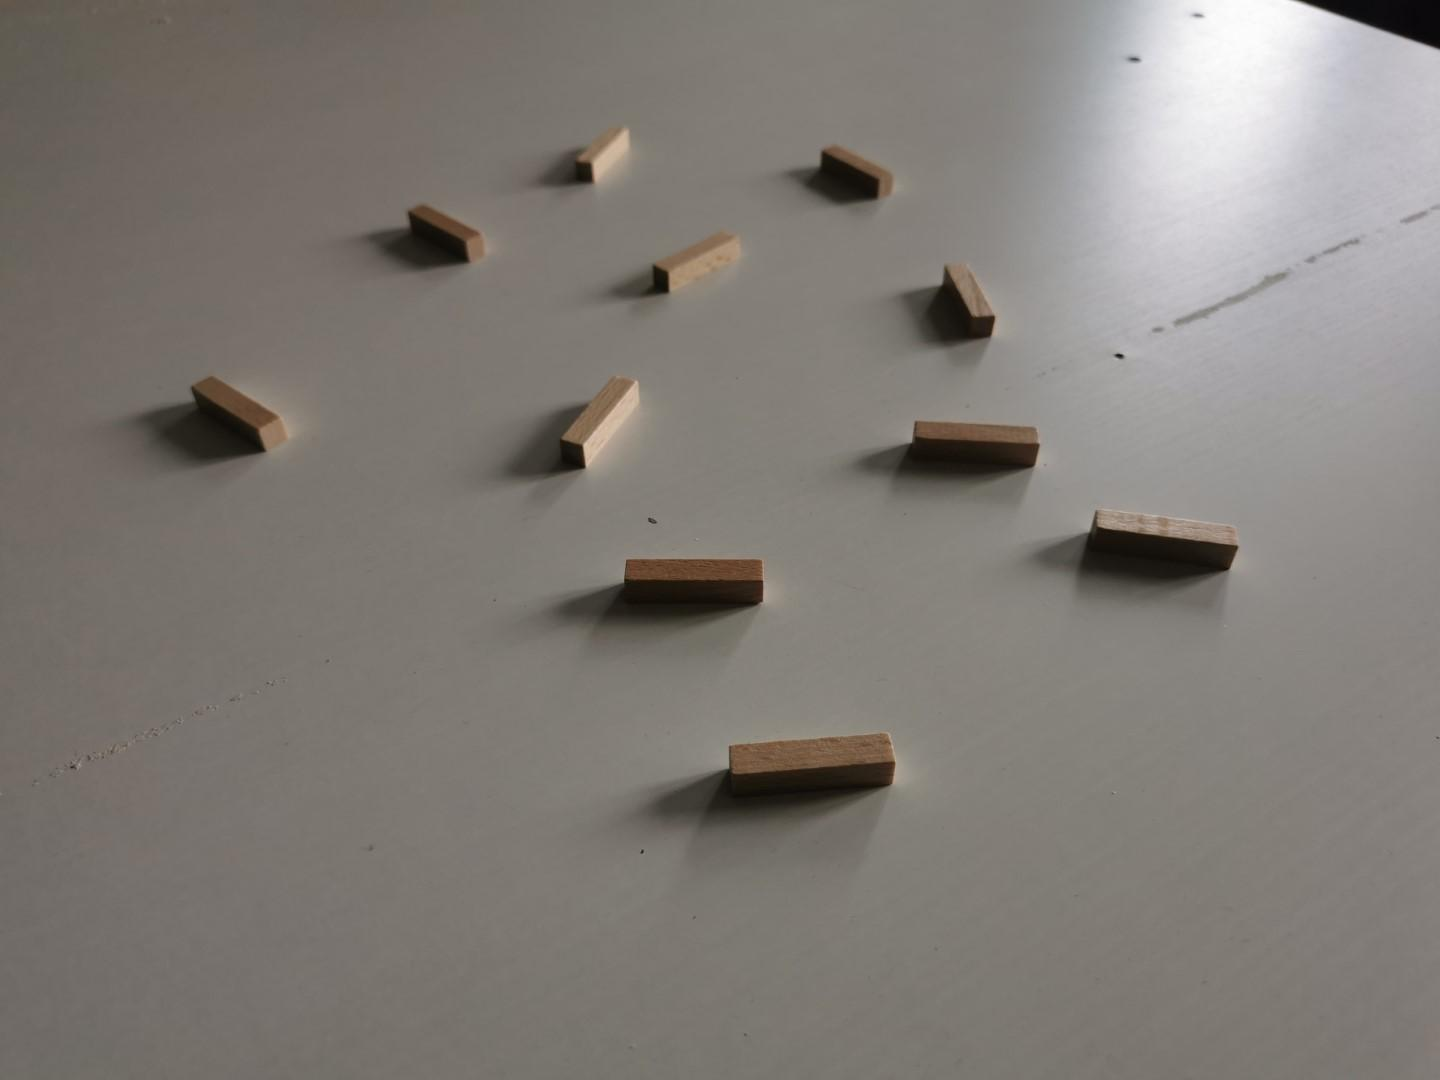jenga: (732, 733, 896, 795), (1090, 508, 1240, 568), (190, 376, 287, 449), (561, 376, 639, 466), (622, 559, 764, 604), (910, 420, 1042, 465), (653, 229, 740, 290), (408, 203, 486, 261), (945, 261, 997, 336), (823, 144, 895, 196), (576, 125, 628, 180)
